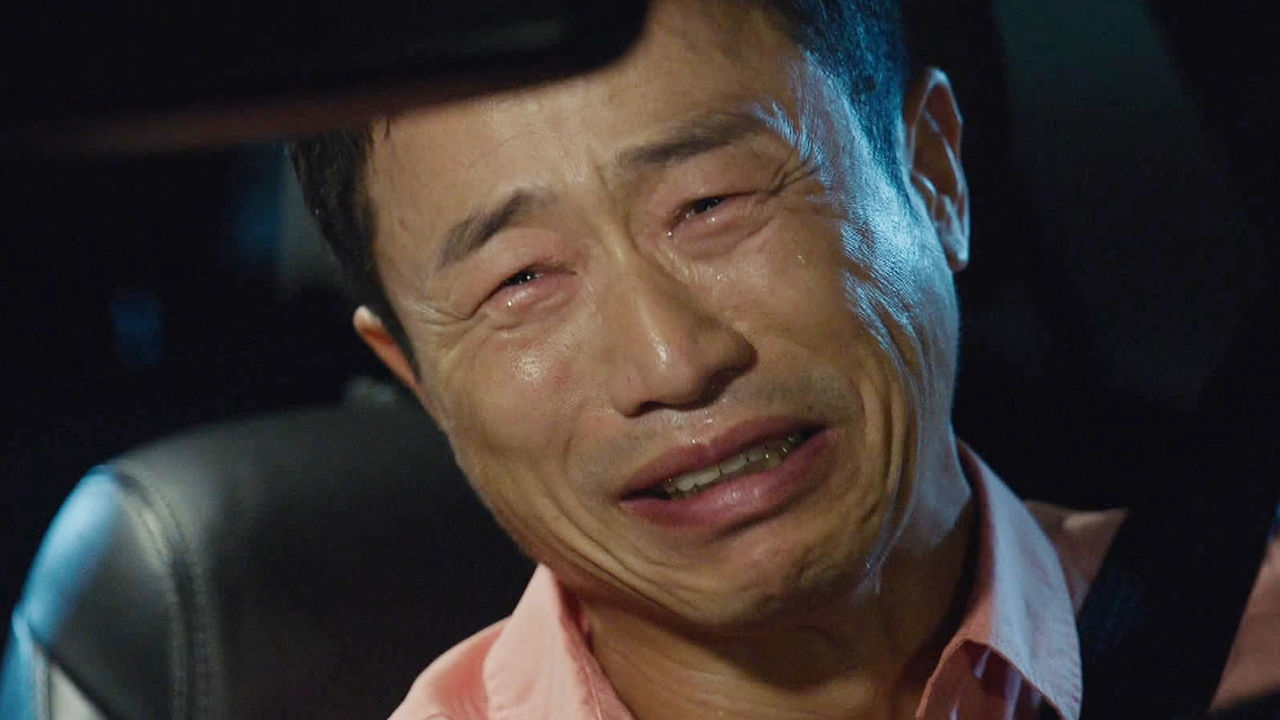sad: (432, 108, 917, 614)
